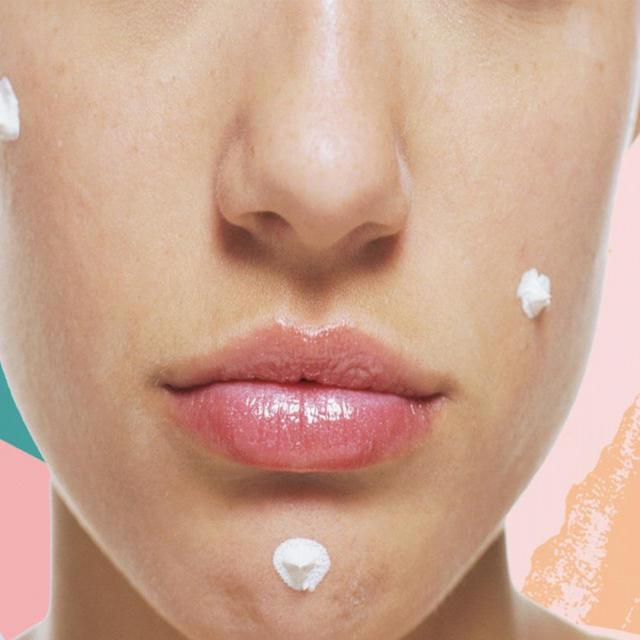blackheads: (270, 533, 336, 598), (516, 261, 552, 324)
